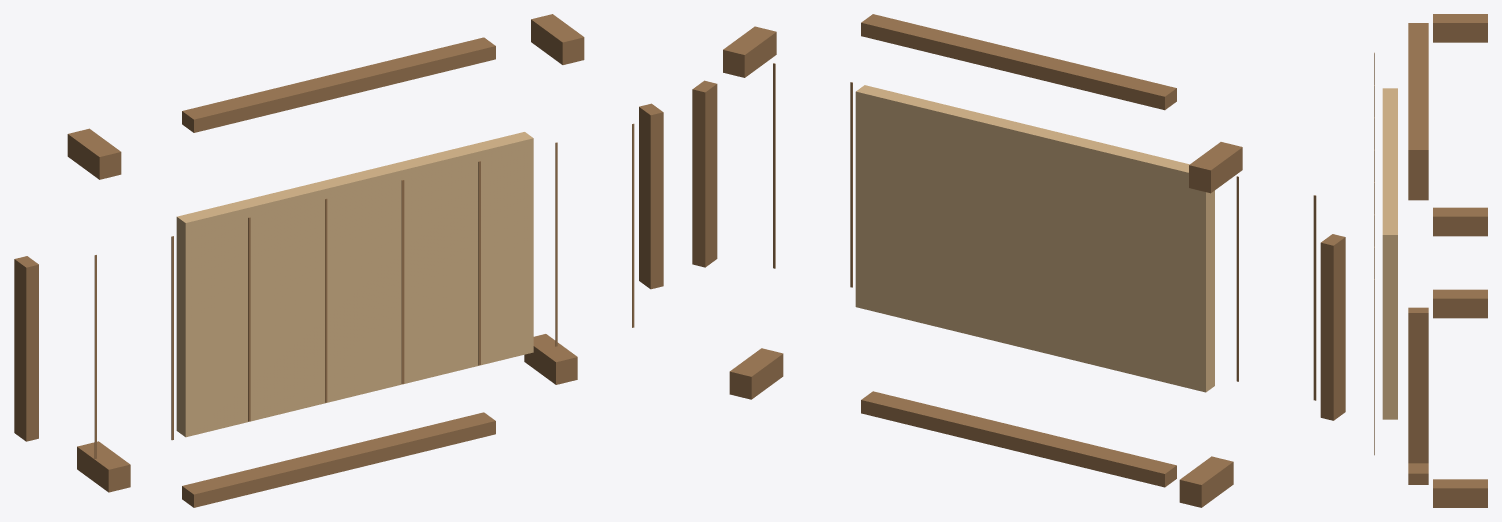
The model's file is reception_room.glb.
3 renders of one model, left to right at view 1: azimuth 30°, elevation 25°; view 2: azimuth 150°, elevation 25°; view 3: azimuth 270°, elevation 25°, orthographic. The views are drawn at different scales.
Parts seen in each view (by area): view 1: Tabletop, Rear apron, Front apron, Left apron, Right apron, Rear left leg, Rear right leg, Front left leg, Front right leg, Top groove 5; view 2: Tabletop, Front apron, Rear apron, Right apron, Left apron, Front left leg, Front right leg, Rear right leg, Rear left leg, Top groove 1; view 3: Tabletop, Right apron, Rear apron, Front left leg, Rear right leg, Front right leg, Rear left leg, Left apron, Front apron, Top groove 8.
Boxes of the visible parts, x1=… form: Tabletop: x1=176, y1=132, x2=533, y2=437; Rear apron: x1=182, y1=37, x2=495, y2=132; Front apron: x1=182, y1=412, x2=495, y2=507; Left apron: x1=14, y1=256, x2=38, y2=441; Right apron: x1=639, y1=103, x2=663, y2=289; Rear left leg: x1=67, y1=128, x2=121, y2=179; Rear right leg: x1=531, y1=14, x2=584, y2=64; Front left leg: x1=77, y1=441, x2=130, y2=492; Front right leg: x1=524, y1=334, x2=577, y2=384; Top groove 5: x1=401, y1=180, x2=404, y2=383; Tabletop: x1=855, y1=85, x2=1214, y2=392; Front apron: x1=861, y1=391, x2=1176, y2=487; Rear apron: x1=861, y1=14, x2=1176, y2=110; Right apron: x1=692, y1=80, x2=717, y2=267; Left apron: x1=1320, y1=234, x2=1345, y2=420; Front left leg: x1=1179, y1=456, x2=1233, y2=507; Front right leg: x1=729, y1=348, x2=783, y2=399; Rear right leg: x1=723, y1=26, x2=776, y2=77; Rear left leg: x1=1189, y1=142, x2=1242, y2=193; Top groove 1: x1=1313, y1=195, x2=1316, y2=400; Tabletop: x1=1382, y1=88, x2=1397, y2=419; Right apron: x1=1408, y1=307, x2=1428, y2=463; Rear apron: x1=1408, y1=23, x2=1428, y2=161; Front left leg: x1=1433, y1=289, x2=1487, y2=318; Rear right leg: x1=1433, y1=207, x2=1487, y2=236; Front right leg: x1=1433, y1=479, x2=1487, y2=507; Rear left leg: x1=1433, y1=14, x2=1487, y2=42; Left apron: x1=1408, y1=161, x2=1428, y2=200; Front apron: x1=1408, y1=463, x2=1428, y2=484; Top groove 8: x1=1374, y1=279, x2=1374, y2=455.
Size of the model in its own units: 1.25 by 0.725 by 0.2235.
